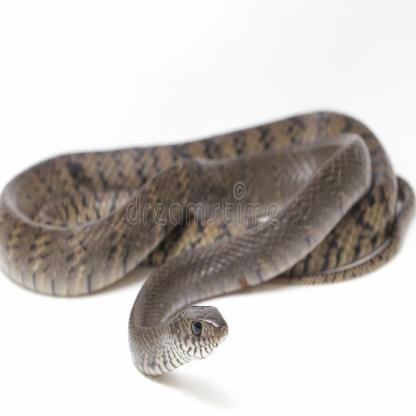Snake: (1, 134, 416, 376), (120, 310, 228, 364)
